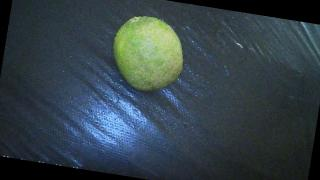DESECHO: (107, 12, 189, 96)
